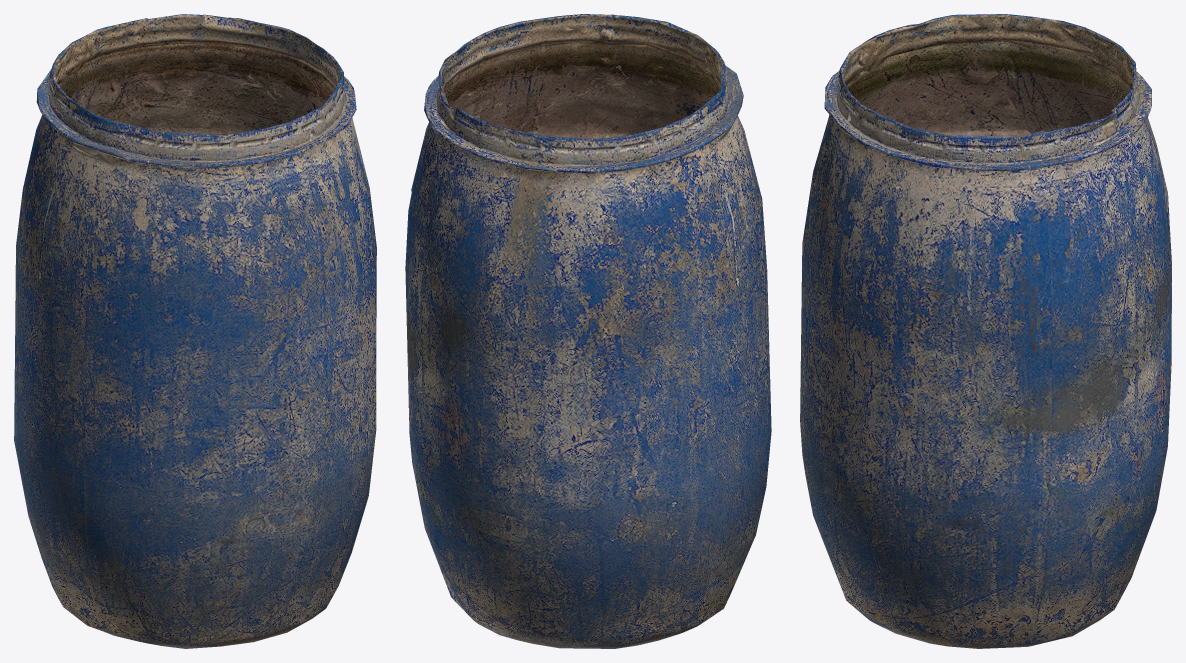
Rendered from SM_Ind_Fac_Container_Drum_Plastic_Worn_01.gltf.
3 views of the same model, side by side, from view 1: azimuth 30°, elevation 25°; view 2: azimuth 150°, elevation 25°; view 3: azimuth 270°, elevation 25° (orthographic).
Parts seen in each view (by area): view 1: SM_Ind_Fac_Container_Drum_Plastic_Worn_01; view 2: SM_Ind_Fac_Container_Drum_Plastic_Worn_01; view 3: SM_Ind_Fac_Container_Drum_Plastic_Worn_01.
Boxes of the visible parts, <box> form: SM_Ind_Fac_Container_Drum_Plastic_Worn_01: <box>14,14,376,648</box>; SM_Ind_Fac_Container_Drum_Plastic_Worn_01: <box>405,14,771,648</box>; SM_Ind_Fac_Container_Drum_Plastic_Worn_01: <box>800,14,1171,648</box>.
Size of the model in its own units: 0.5629 by 0.8992 by 0.5735.
Materials: 1 (1 with a texture image).
